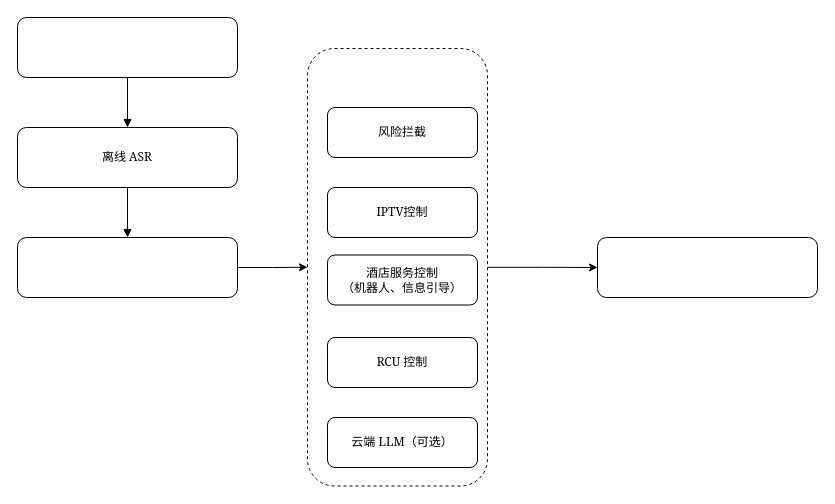
This 835x504 diagram has some shape labels left out. The shapes that lost their labels are listed below. From the top down, each one's box as (x1, y1, x2, y2) in pixels, then its label:
(16, 16, 238, 78): 麦克风阵列
(16, 236, 238, 298): Intent Router（意图路由）
(596, 236, 818, 298): 离线 TTS + 数字人
